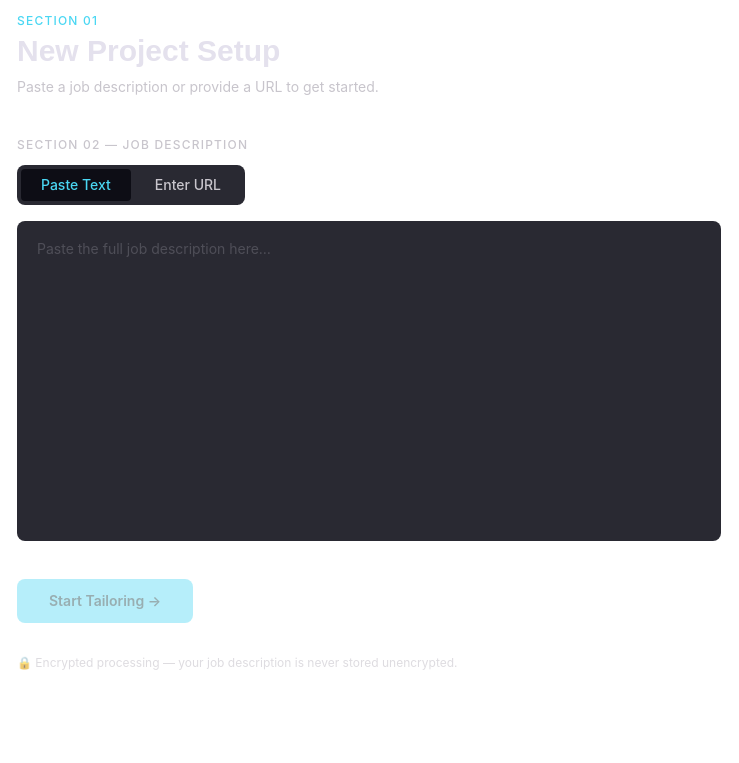
Scenario: NewProjectPage — /dashboard/new › shows an inline error message when createJD rejects
Type "Some job description text" into the text box with placeholder "Paste the full job description here…" at (369, 381), box [17,221,721,541]
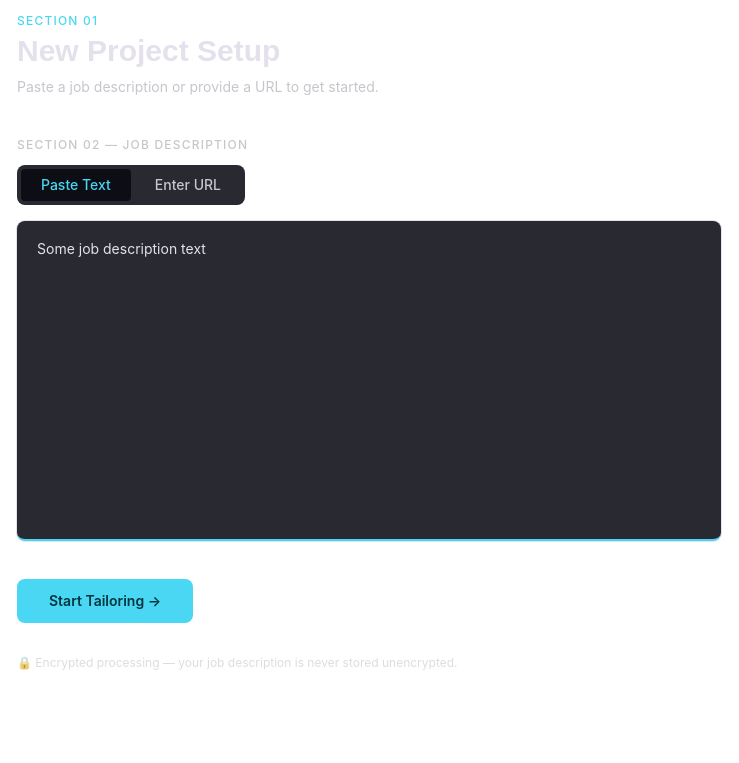
Click the button "Start Tailoring →" at (105, 601), box [17,579,193,623]
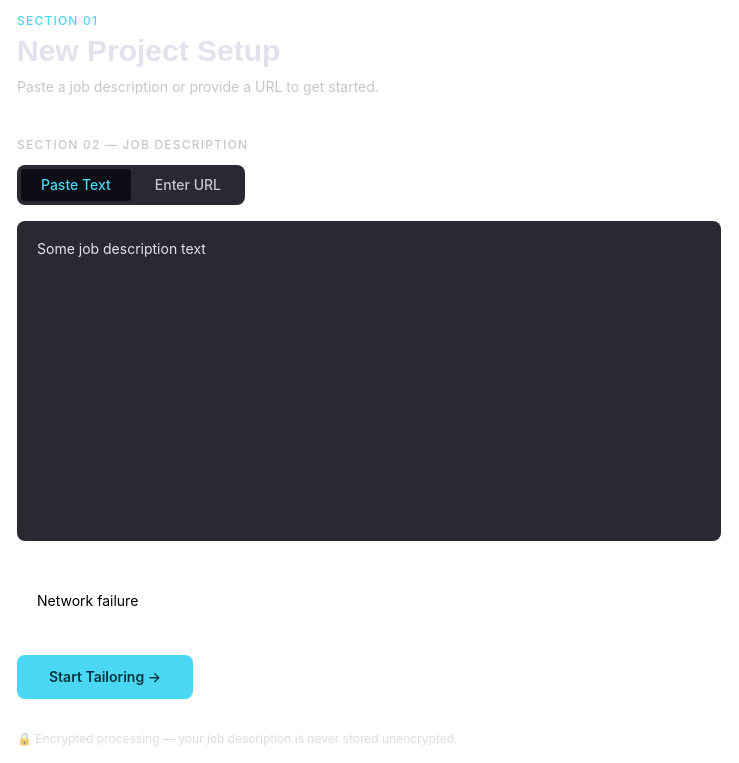
Expected: the text "Network failure" is shown, [37,592,138,609]
